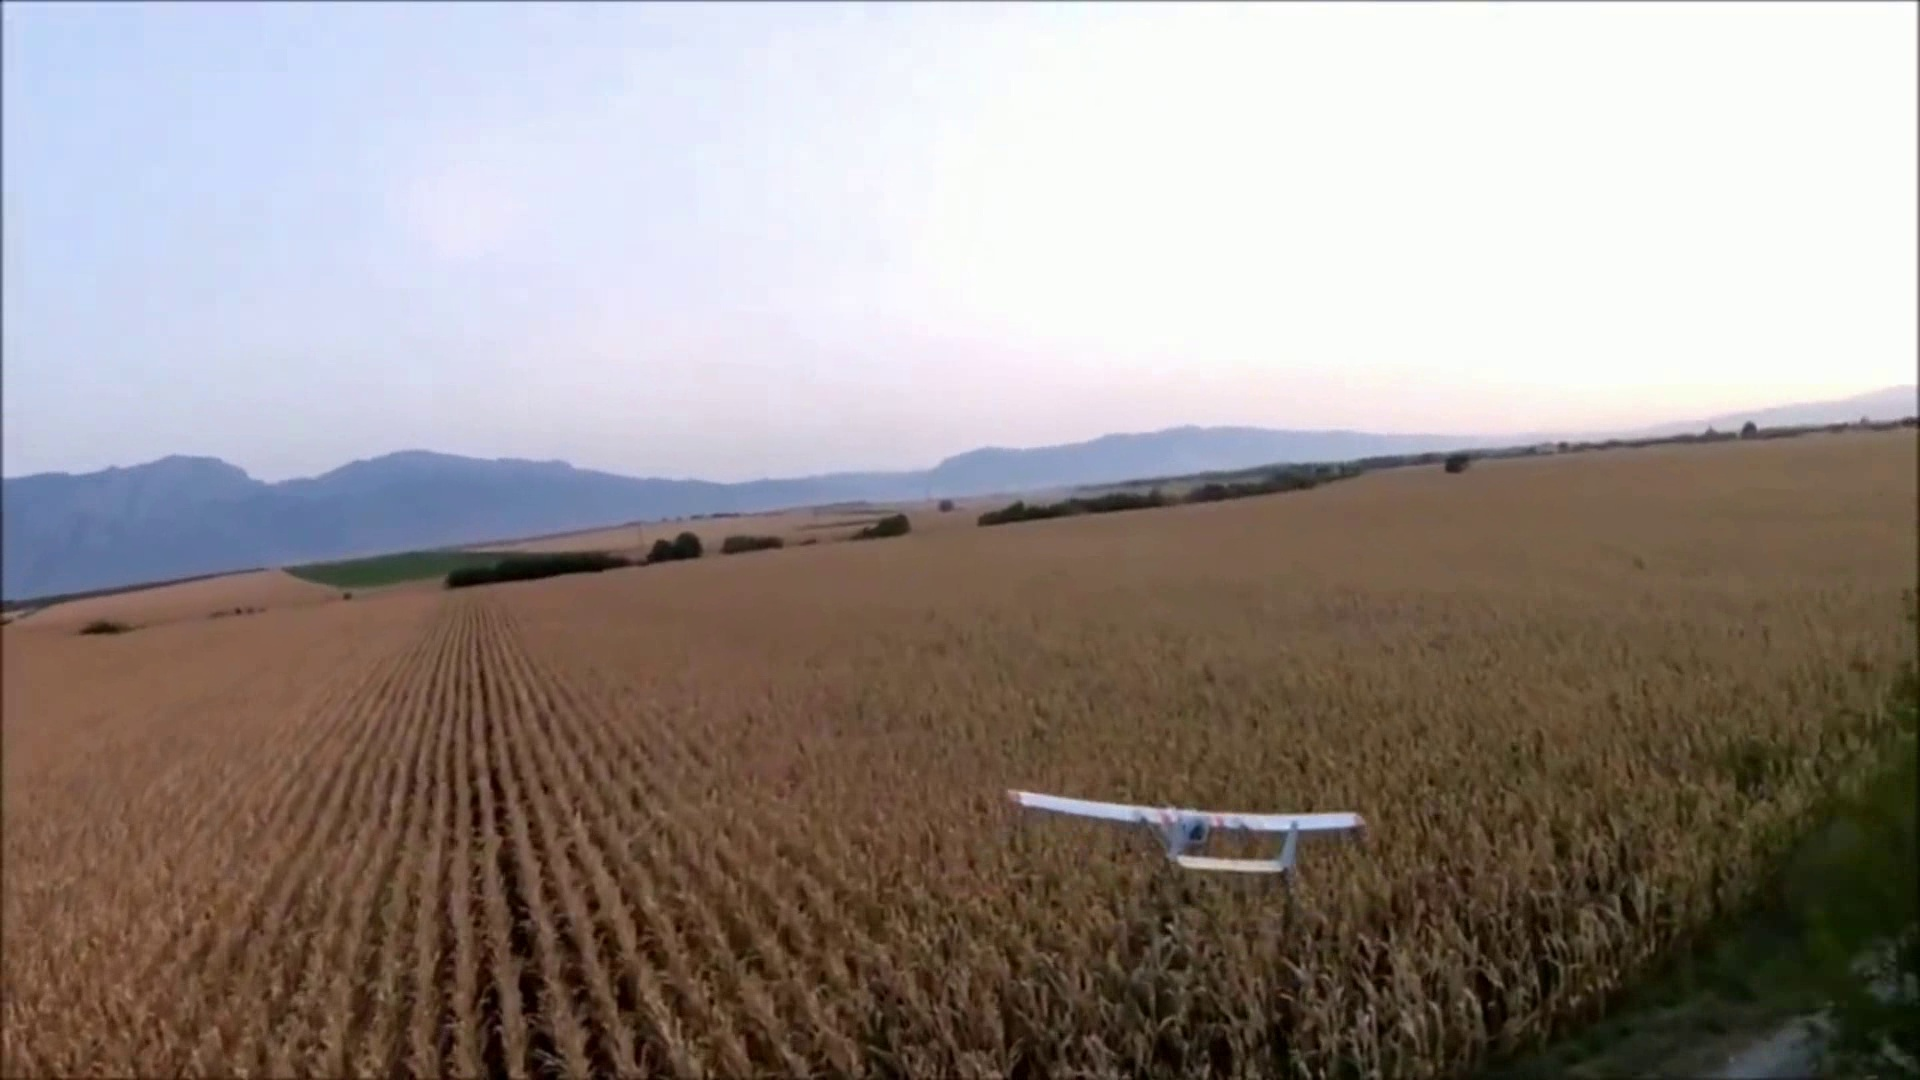airplane: (1006, 788, 1366, 877)
